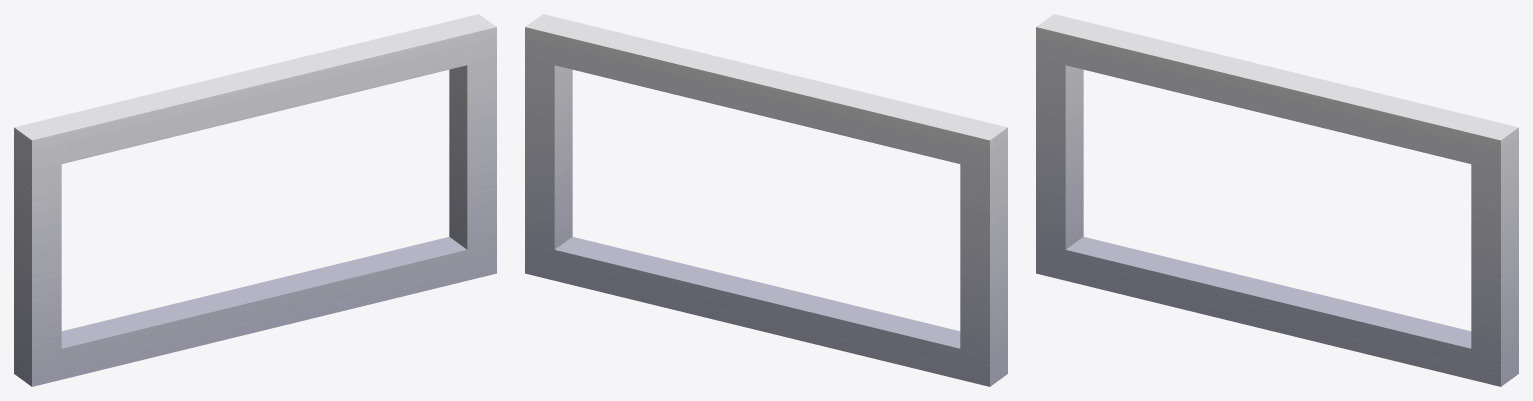
File: window_white_wide.glb
3 renders of one model, left to right at view 1: azimuth 30°, elevation 25°; view 2: azimuth 150°, elevation 25°; view 3: azimuth 330°, elevation 25°, orthographic.
Visible parts, largest first — view 1: window-white-wide; view 2: window-white-wide; view 3: window-white-wide.
Part boxes in pixels (x1,y1,x2,y2): window-white-wide: (14, 14, 496, 386); window-white-wide: (525, 14, 1007, 386); window-white-wide: (1036, 14, 1518, 386).
Size of the model in its own units: 0.75 by 0.38 by 0.05.
Materials: 1 (1 with a texture image).
